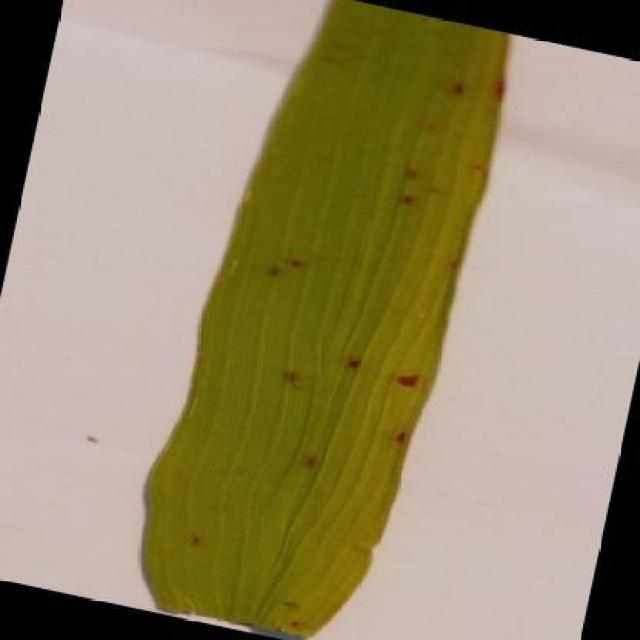Leaf_Blast: (370, 356, 435, 404), (321, 343, 382, 388), (366, 415, 420, 460)
